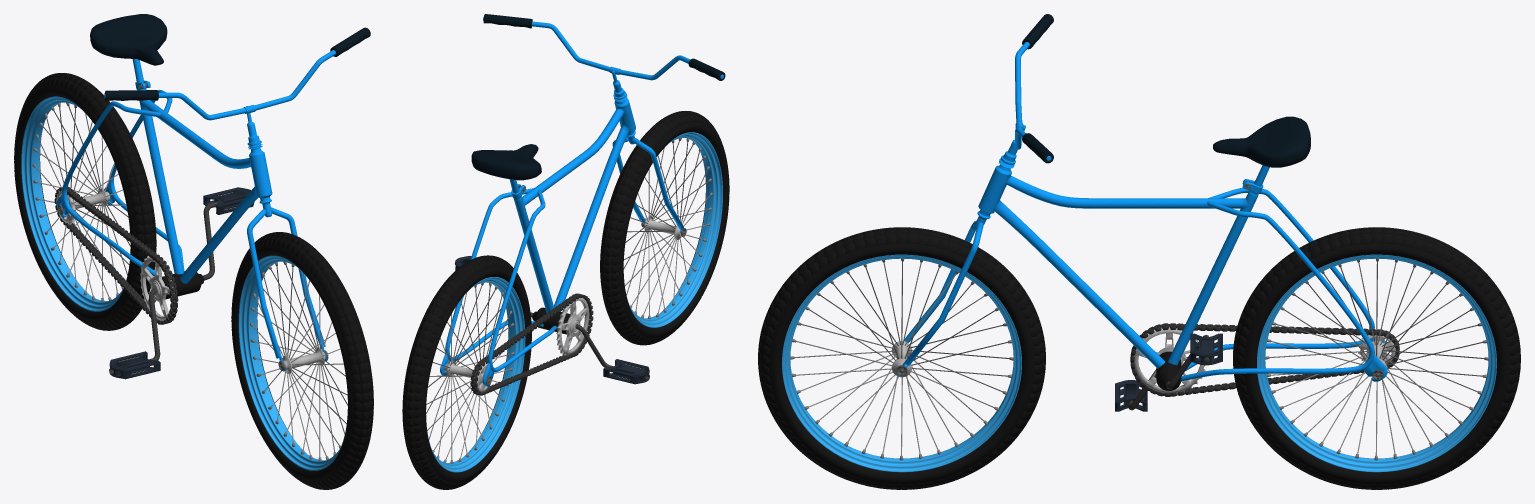
File: Bicycle.fbx
3 renders of one model, left to right at view 1: azimuth 30°, elevation 25°; view 2: azimuth 150°, elevation 25°; view 3: azimuth 270°, elevation 25°, orthographic. The views are drawn at different scales.
Parts seen in each view (by area): view 1: Blue Bicycle; view 2: Blue Bicycle; view 3: Blue Bicycle.
Part boxes in pixels (x1=…): Blue Bicycle: x1=14, y1=14, x2=373, y2=489; Blue Bicycle: x1=402, y1=14, x2=729, y2=489; Blue Bicycle: x1=758, y1=14, x2=1520, y2=489.
Bounding box in the file's own units: 75.48 × 101 × 172.
